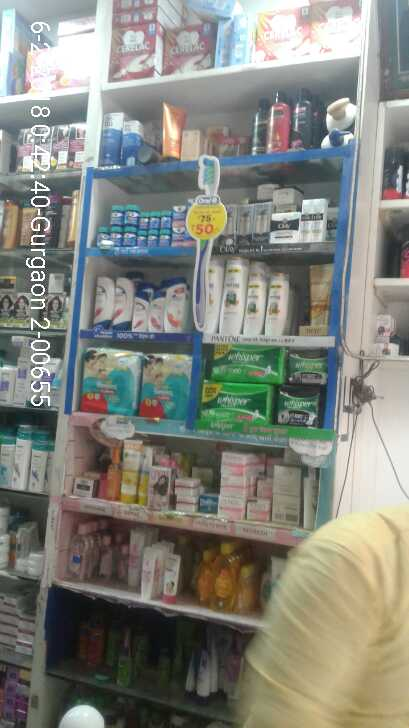vicks: (96, 195, 197, 251)
